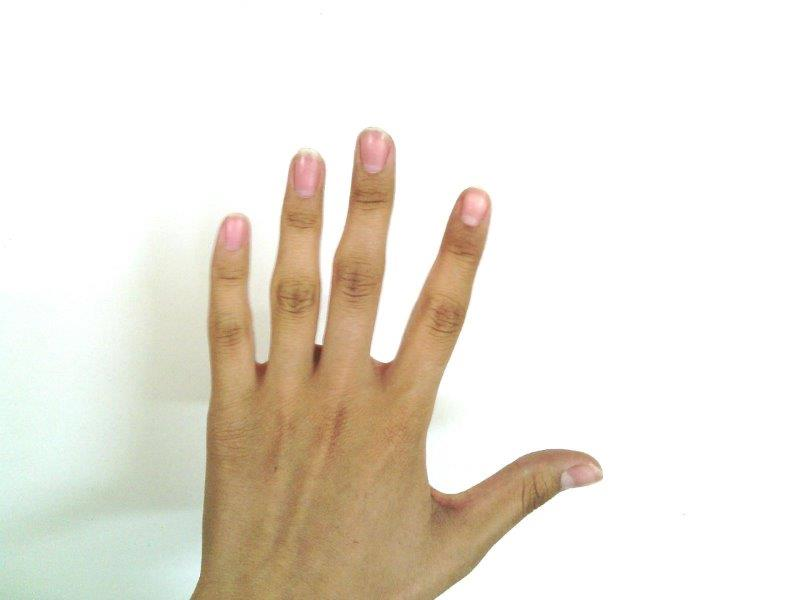hand: (208, 131, 605, 588)
